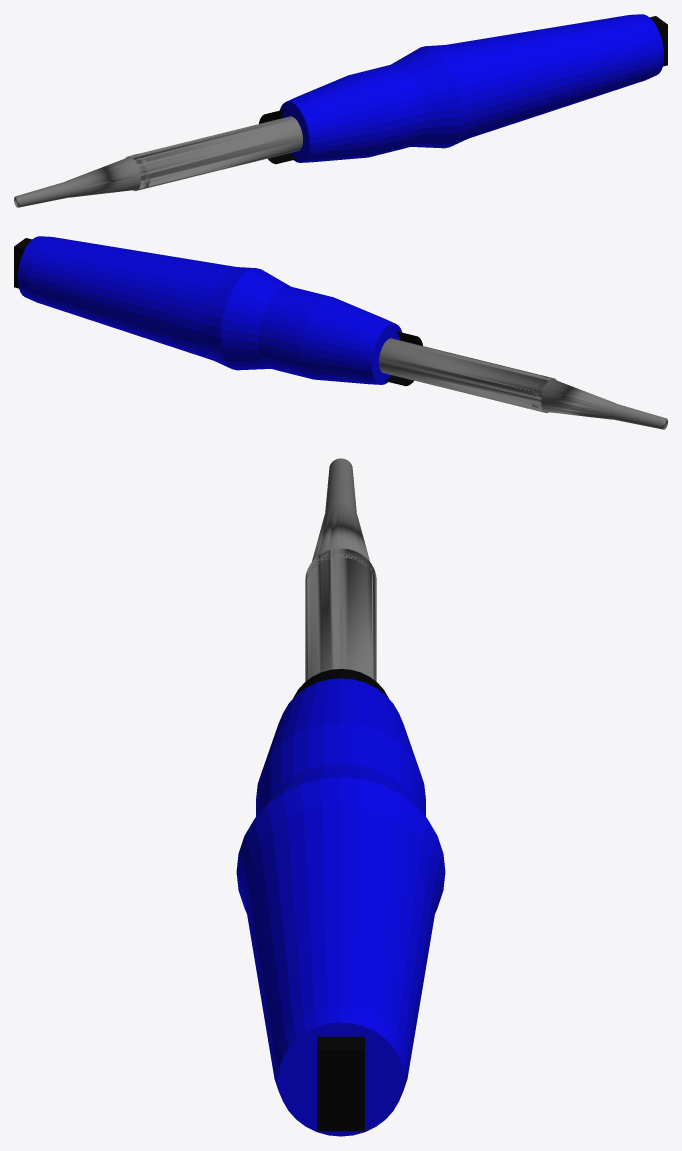
Rendered from BLUE_WELDER.glb.
3 renders of one model, top to bottom at view 1: azimuth 30°, elevation 25°; view 2: azimuth 150°, elevation 25°; view 3: azimuth 270°, elevation 25°, orthographic. The views are drawn at different scales.
Visible parts, largest first — view 1: ELECTRONIC_SOLDERING_IRON_TIP, SOLDERING_TIP; view 2: ELECTRONIC_SOLDERING_IRON_TIP, SOLDERING_TIP; view 3: ELECTRONIC_SOLDERING_IRON_TIP, SOLDERING_TIP.
Part boxes in pixels (x1,y1,x2,y2): ELECTRONIC_SOLDERING_IRON_TIP: (259,14,667,164); SOLDERING_TIP: (14,116,302,207); ELECTRONIC_SOLDERING_IRON_TIP: (14,236,422,386); SOLDERING_TIP: (379,338,667,429); ELECTRONIC_SOLDERING_IRON_TIP: (236,669,445,1136); SOLDERING_TIP: (305,458,376,681).
Size of the model in its own units: 0.8539 by 0.1198 by 0.1198.
